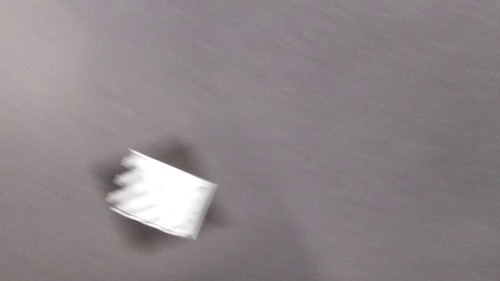misgoods: (92, 144, 222, 243)
